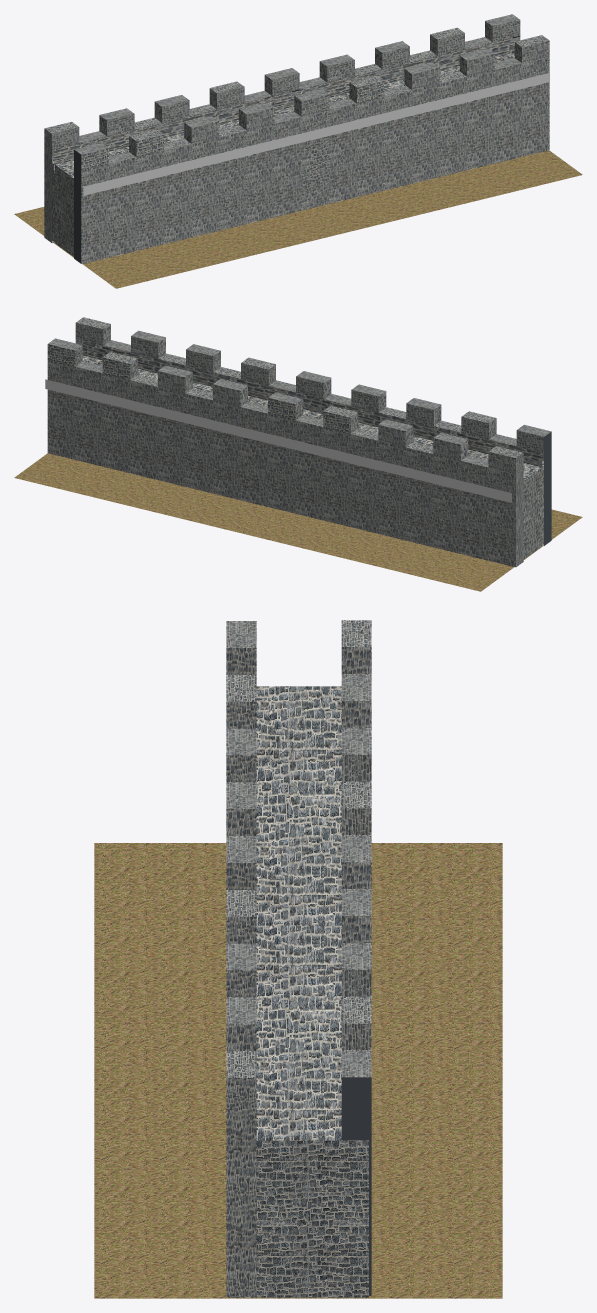
File: HumanWallStraight1.fbx
3 renders of one model, top to bottom at view 1: azimuth 30°, elevation 25°; view 2: azimuth 150°, elevation 25°; view 3: azimuth 270°, elevation 25°, orthographic. The views are drawn at different scales.
Parts seen in each view (by area): view 1: Exterior, Suelo, Interior, BandaRoja; view 2: Exterior, Suelo, Interior, BandaRoja; view 3: Suelo, Interior, Exterior.
Boxes of the visible parts, bbox=[...] form: Exterior: bbox=[44, 14, 549, 263]; Suelo: bbox=[14, 150, 582, 288]; Interior: bbox=[52, 37, 548, 263]; BandaRoja: bbox=[83, 73, 549, 195]; Exterior: bbox=[47, 317, 551, 567]; Suelo: bbox=[14, 453, 582, 591]; Interior: bbox=[76, 339, 543, 559]; BandaRoja: bbox=[45, 379, 511, 502]; Suelo: bbox=[94, 843, 502, 1298]; Interior: bbox=[228, 686, 368, 1297]; Exterior: bbox=[226, 620, 371, 1296].
Size of the model in its own units: 1531 by 343 by 576.
